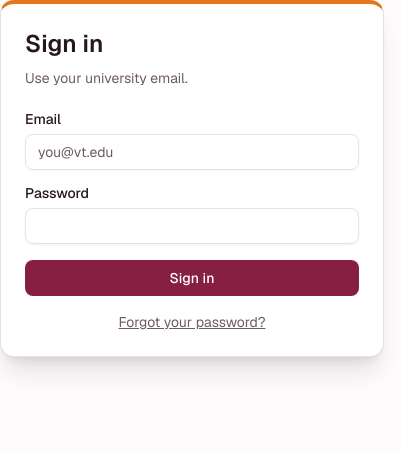
LoginForm › shows an error on failed sign-in
Type "joe@vt.edu" into the field labelled "Email" at (192, 152), box [25,134,359,170]
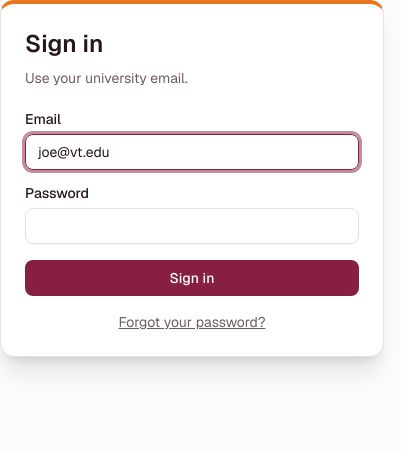
Type "wrong" into the password field labelled "Password" at (192, 226), box [25,208,359,244]
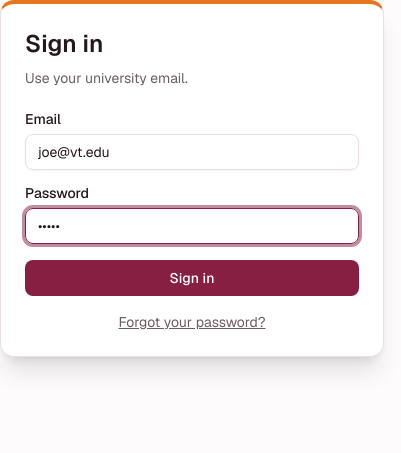
Click the button "Sign in" at (192, 278), box [25,260,359,296]
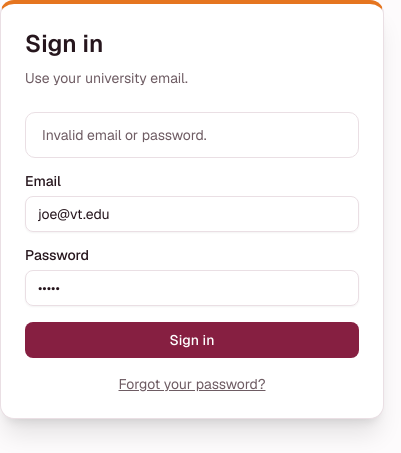
Check: the text "Invalid email or password." is shown, box [42,126,207,144]
